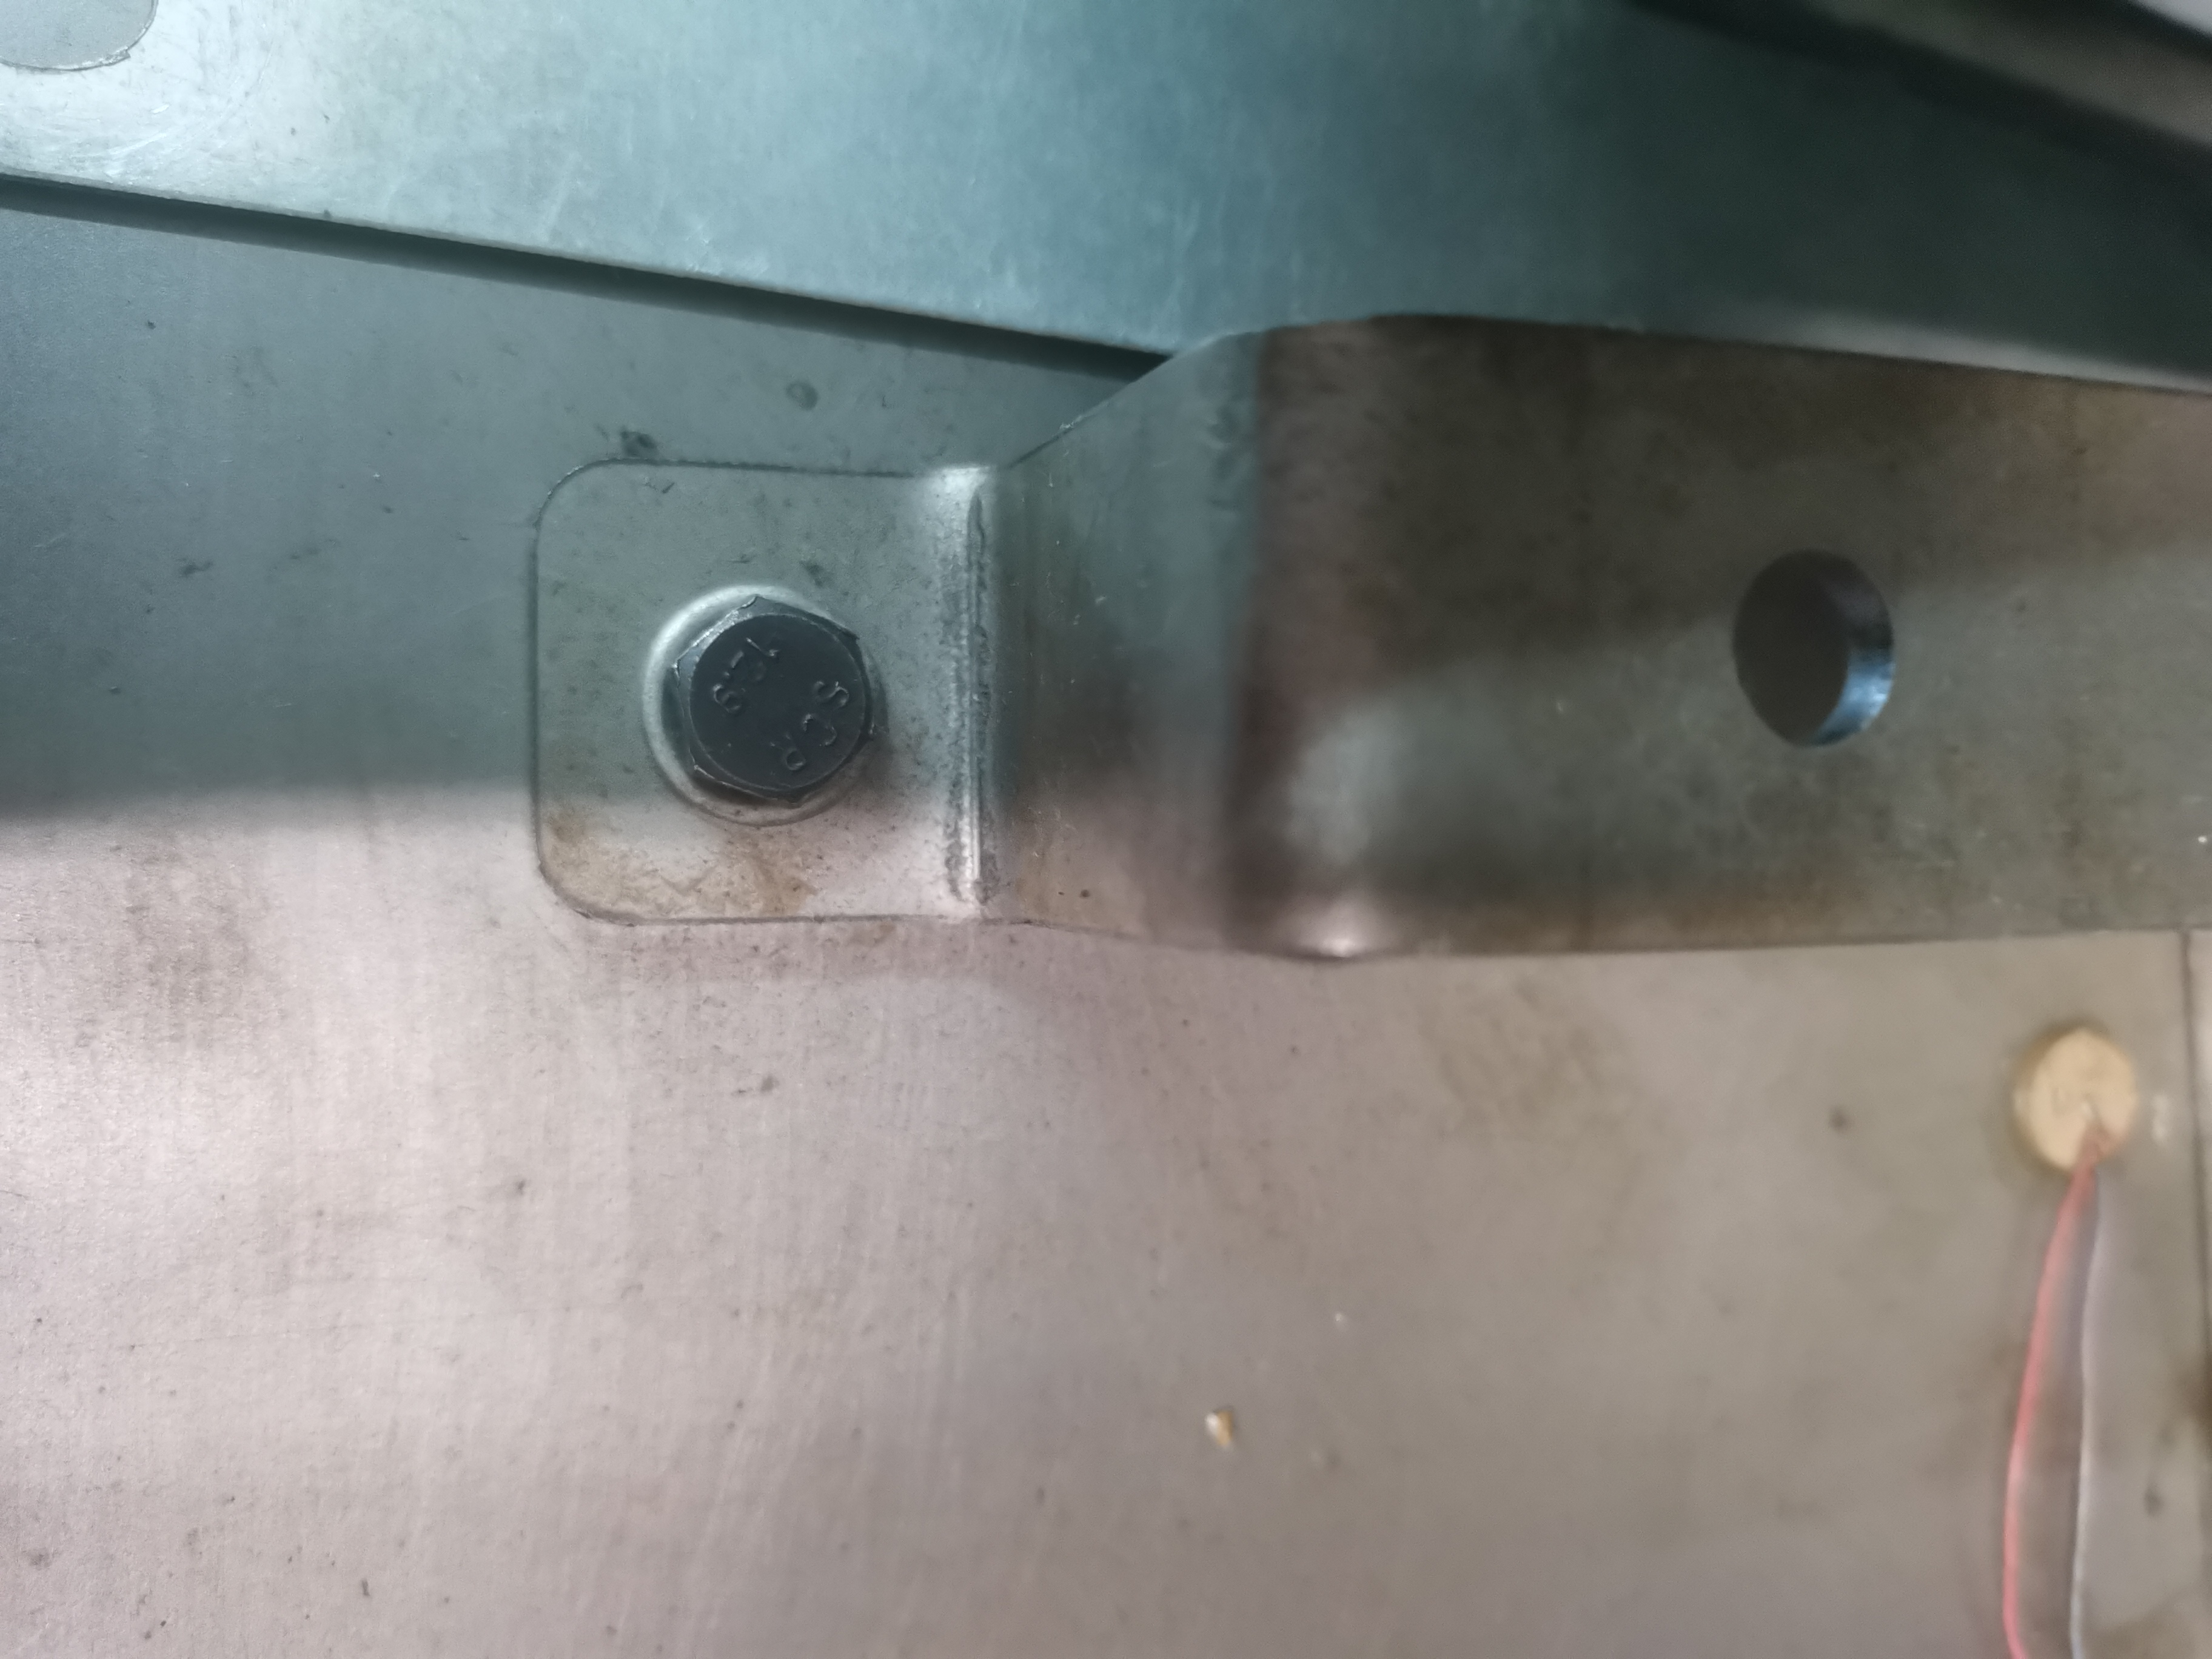bolt_a: (667, 589, 878, 812)
